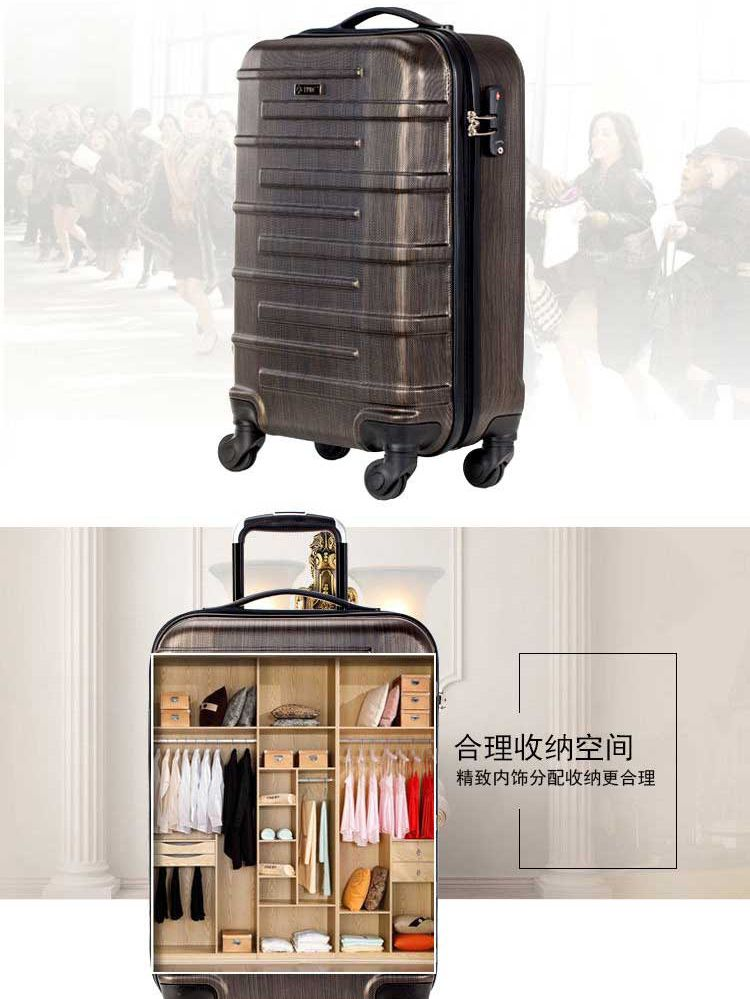suitcase: (220, 6, 527, 501)
